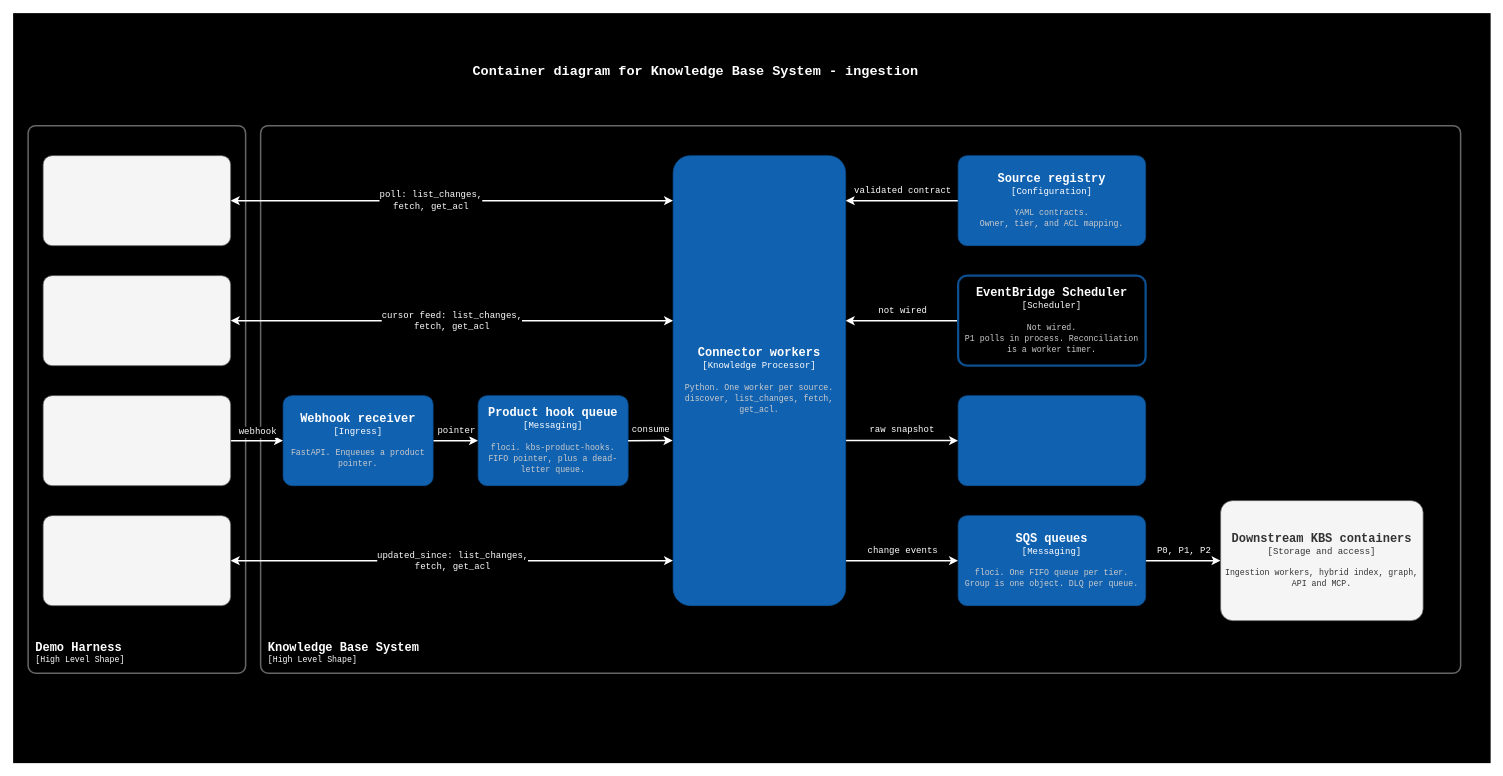
The diagram is 1503 pixels wide and 776 high, and some of its shapes have lost their labels. The shapes that lost their labels are listed below. From the top down, each one's centre as x and y in pixels, then its label:
At point 136,200: "HR service [External System] FastAPI and SQLite. Poll, no webhook.".
At point 136,320: "Sales service [External System] FastAPI and SQLite. Cursor change feed.".
At point 136,440: "Product service [External System] FastAPI and files. Webhook on file change.".
At point 1051,440: "S3 raw snapshots [Object Storage] floci. Raw payloads and document blobs.".
At point 136,560: "Engineering service [External System] FastAPI and SQLite. updated_since listing.".
